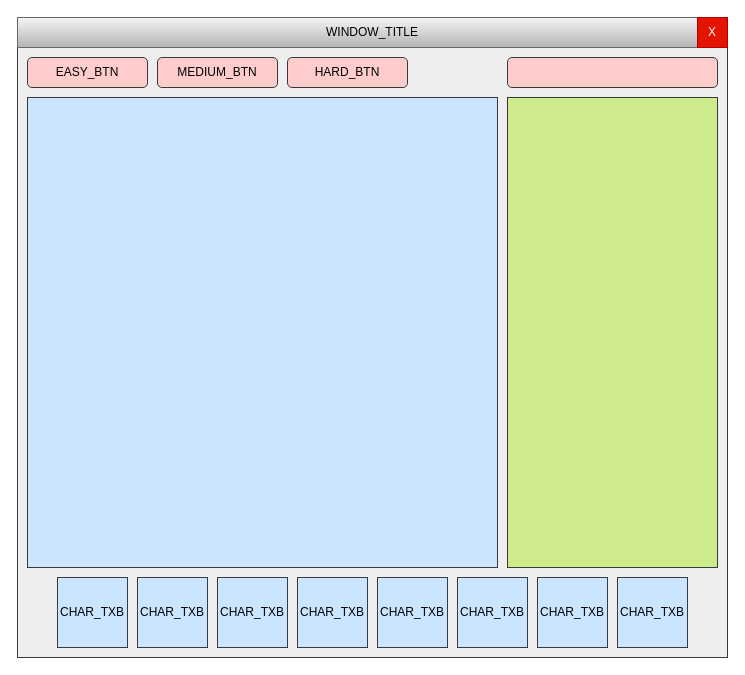
Some shapes in this 745 by 675 pixel diagram are drawn without their labels. Here are the shapes that lost their labels. From the top down, the centre of each, then its label:
(x=612, y=72): RESTART_BTN
(x=262, y=332): CURRENT_STATE_IMG
(x=612, y=332): Game Tracking Infomation
